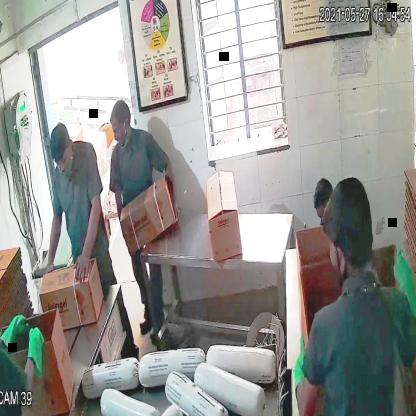no_goggles: (52, 146, 73, 171)
